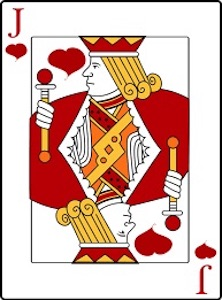JackOfHearts: (3, 2, 220, 300)
